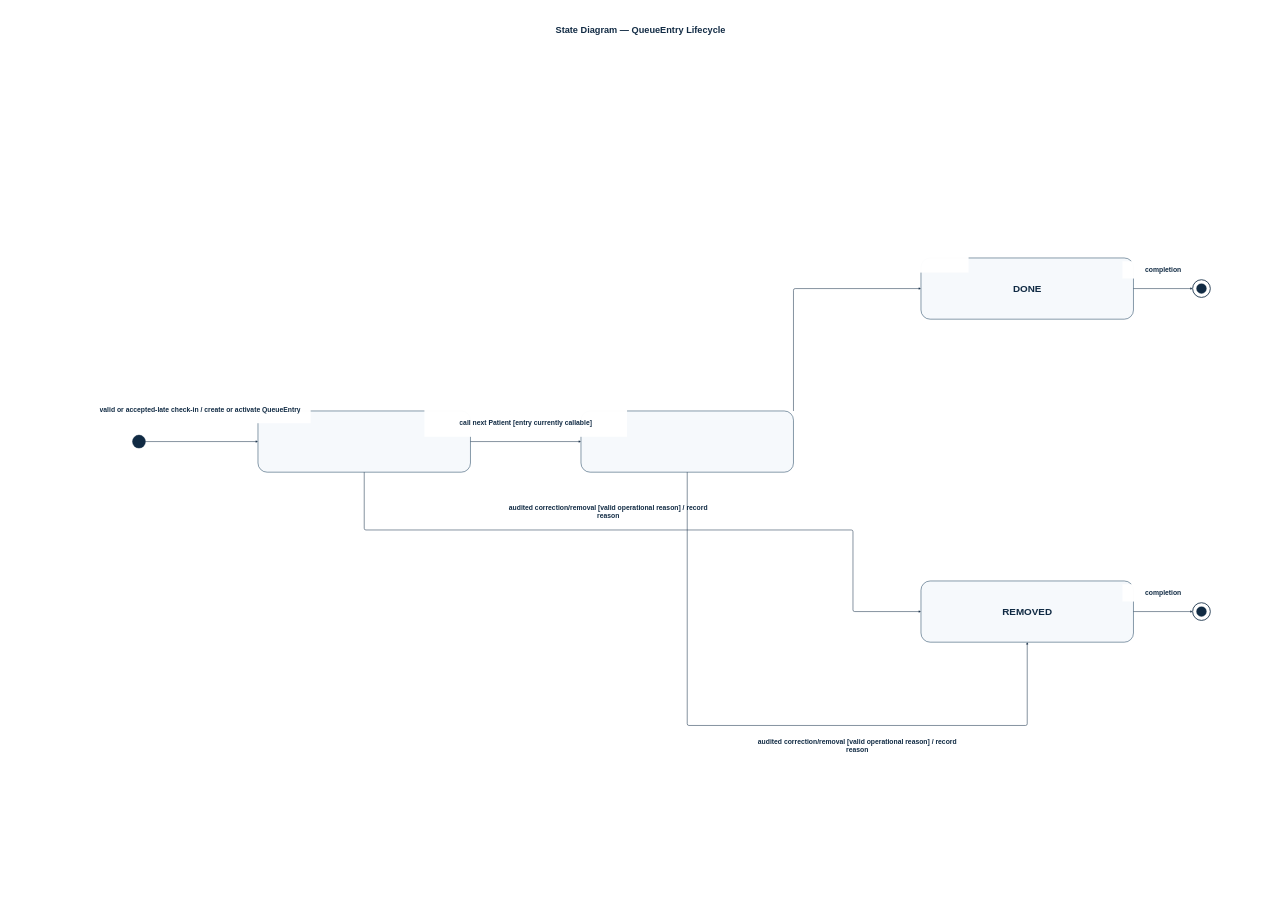
This 1281x907 diagram has some shape labels left out. Here are the shapes that lost their labels. From the top down, the box of each, then its label:
(747, 255, 968, 273): queue handling completed / mark entry done
(258, 411, 471, 472): WAITING
(581, 411, 794, 472): CALLED
